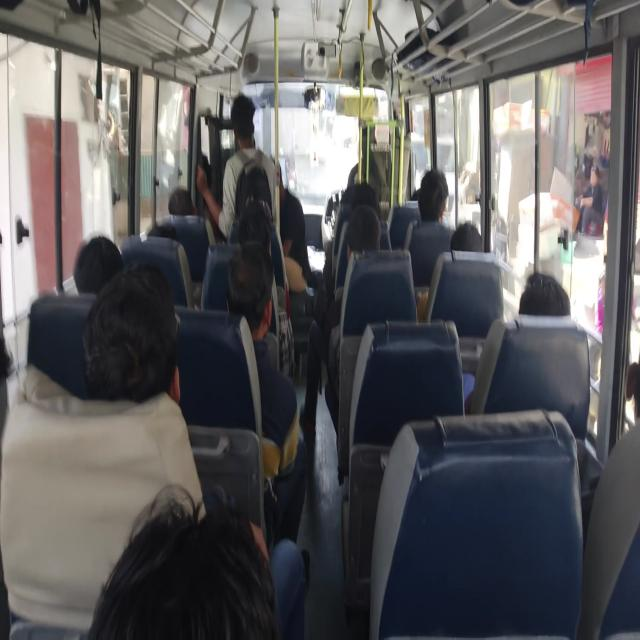person: (87, 483, 307, 639), (82, 260, 206, 522), (225, 240, 308, 546), (299, 203, 381, 441), (462, 270, 571, 412), (82, 261, 181, 404), (195, 93, 279, 242), (274, 160, 313, 293), (72, 234, 124, 294), (518, 271, 571, 317), (417, 168, 451, 228), (575, 163, 603, 234), (450, 222, 483, 252), (168, 186, 196, 216)
